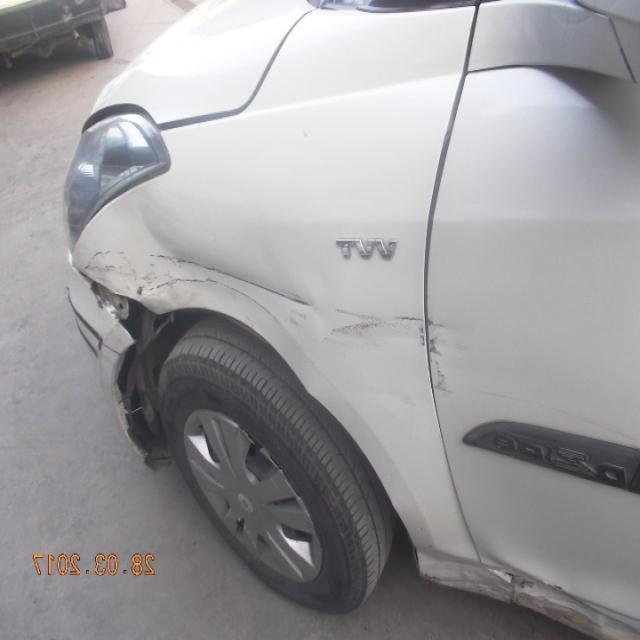minor: (424, 320, 447, 396)
moderate: (76, 186, 426, 391), (483, 567, 640, 640)
